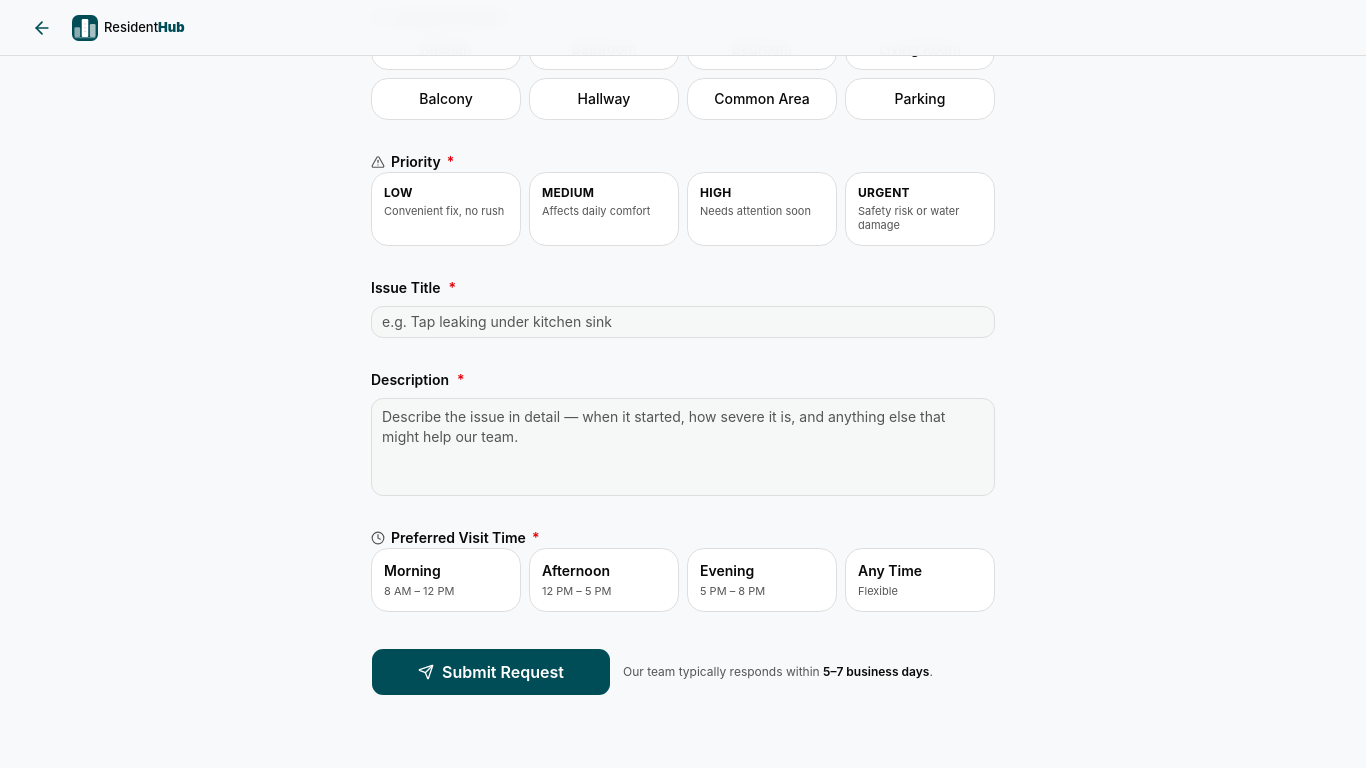
Test: MaintenancePage › shows validation errors when submitting empty form
(page scrolled)
Click the button "Submit Request" at (491, 672), box [371,648,611,696]
(page scrolled)
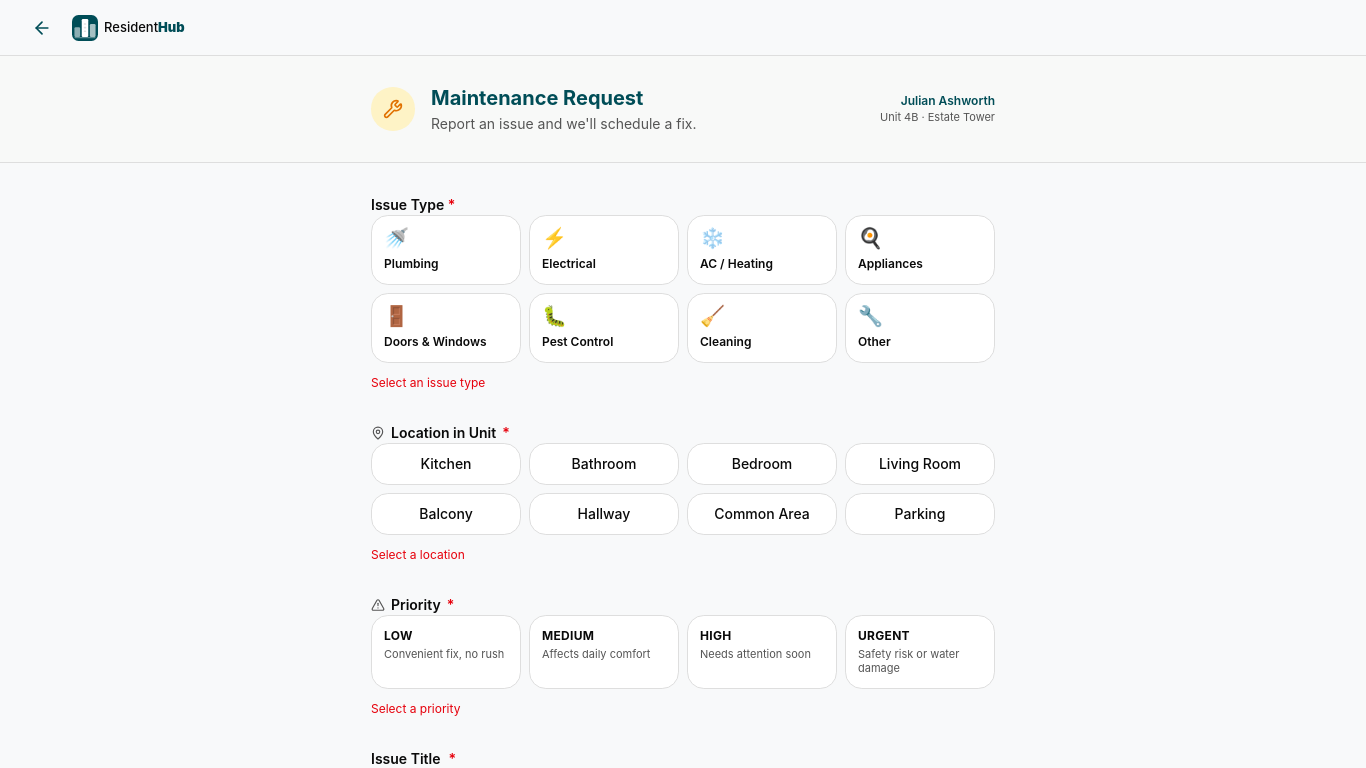
Now the message "Select an issue type" is shown, box [371,375,485,390]
